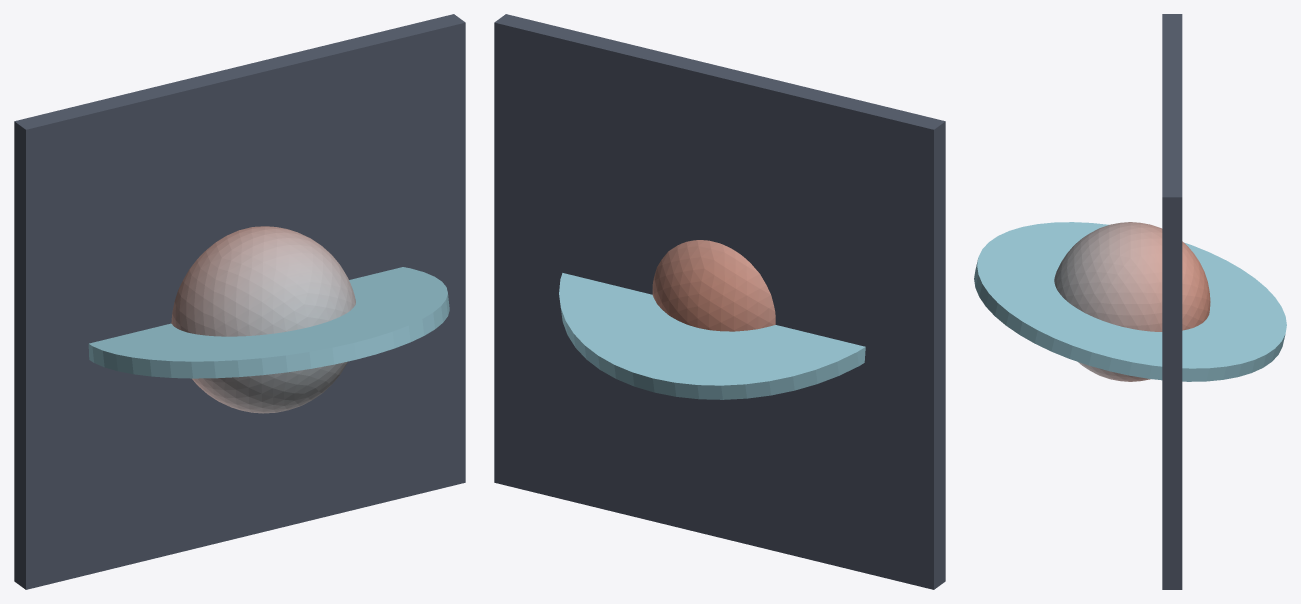
Rendered from trimesh_scene.glb.
3 renders of one model, left to right at view 1: azimuth 30°, elevation 25°; view 2: azimuth 150°, elevation 25°; view 3: azimuth 270°, elevation 25°, orthographic. The views are drawn at different scales.
Visible parts, largest first — view 1: floor, core, ring; view 2: floor, ring, core; view 3: ring, floor, core.
Part boxes in pixels (x1=…): floor: x1=14, y1=14, x2=465, y2=589; core: x1=171, y1=226, x2=355, y2=413; ring: x1=88, y1=267, x2=449, y2=378; floor: x1=494, y1=14, x2=945, y2=589; ring: x1=559, y1=273, x2=865, y2=399; core: x1=652, y1=240, x2=775, y2=331; ring: x1=974, y1=222, x2=1286, y2=381; floor: x1=1162, y1=14, x2=1182, y2=589; core: x1=1054, y1=222, x2=1210, y2=381.
Size of the model in its own units: 2.6 by 2.6 by 1.88.
